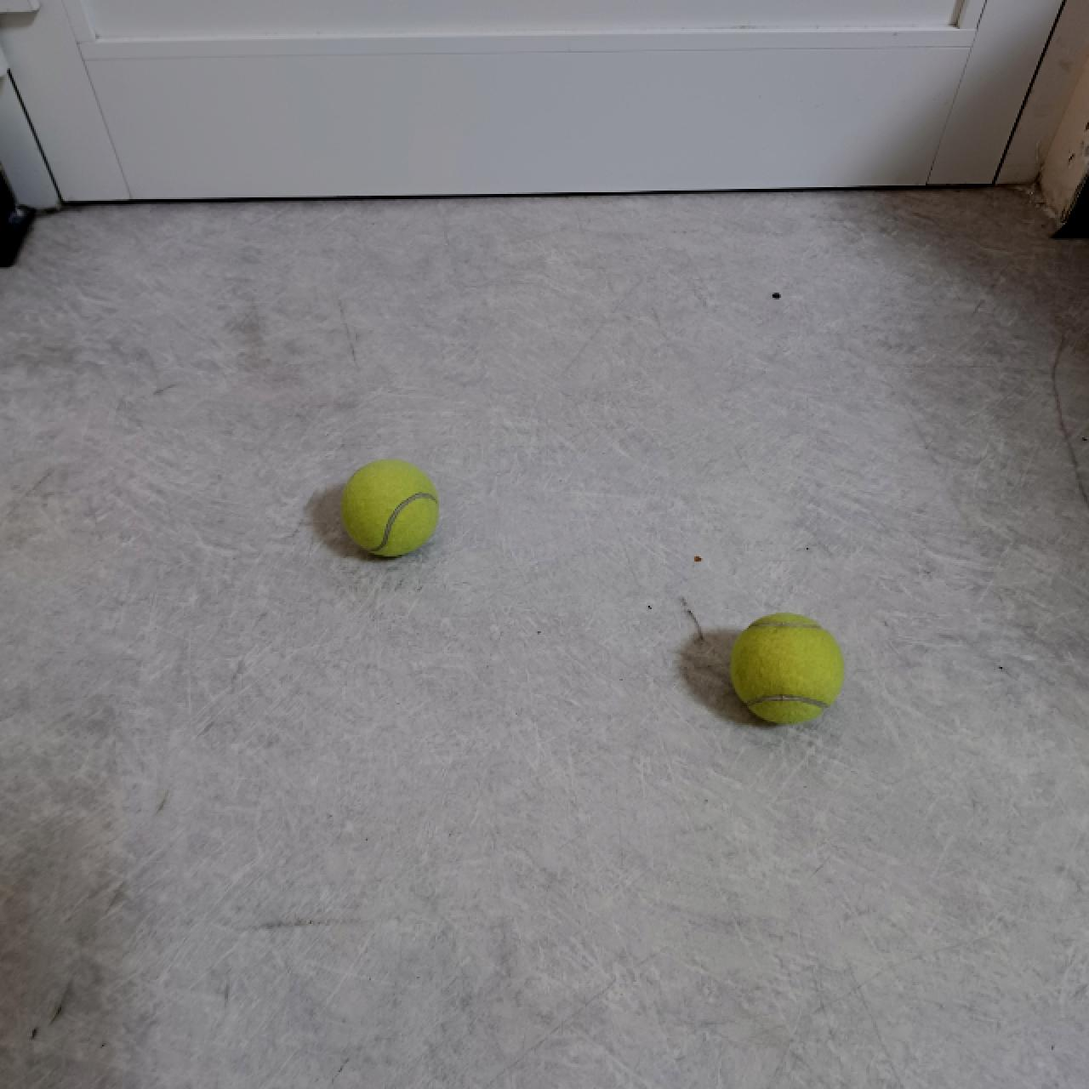tennis-ball: (727, 606, 846, 728), (336, 458, 443, 562)
